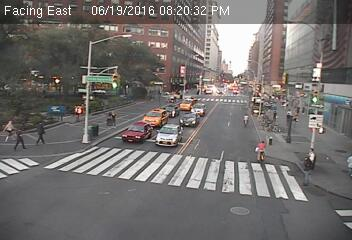neg: (249, 138, 270, 166), (119, 159, 135, 181), (186, 41, 201, 61), (239, 110, 253, 129), (140, 89, 153, 105), (90, 137, 102, 152), (237, 54, 249, 68), (113, 7, 124, 22), (150, 10, 161, 24), (262, 41, 273, 55), (73, 181, 83, 195), (191, 18, 201, 32), (215, 83, 225, 97), (145, 121, 154, 133), (215, 56, 224, 68), (311, 19, 318, 29), (228, 12, 235, 22), (161, 32, 168, 41), (86, 51, 91, 57)
pos: (293, 153, 320, 188), (1, 116, 19, 142), (29, 120, 48, 144), (11, 127, 28, 149), (304, 144, 320, 166), (105, 108, 121, 129), (293, 104, 301, 115), (300, 104, 308, 115)
